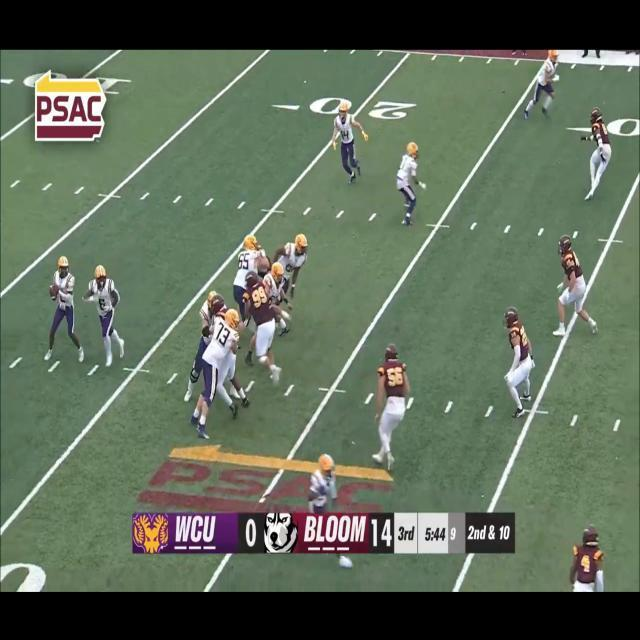football: (48, 284, 58, 302)
